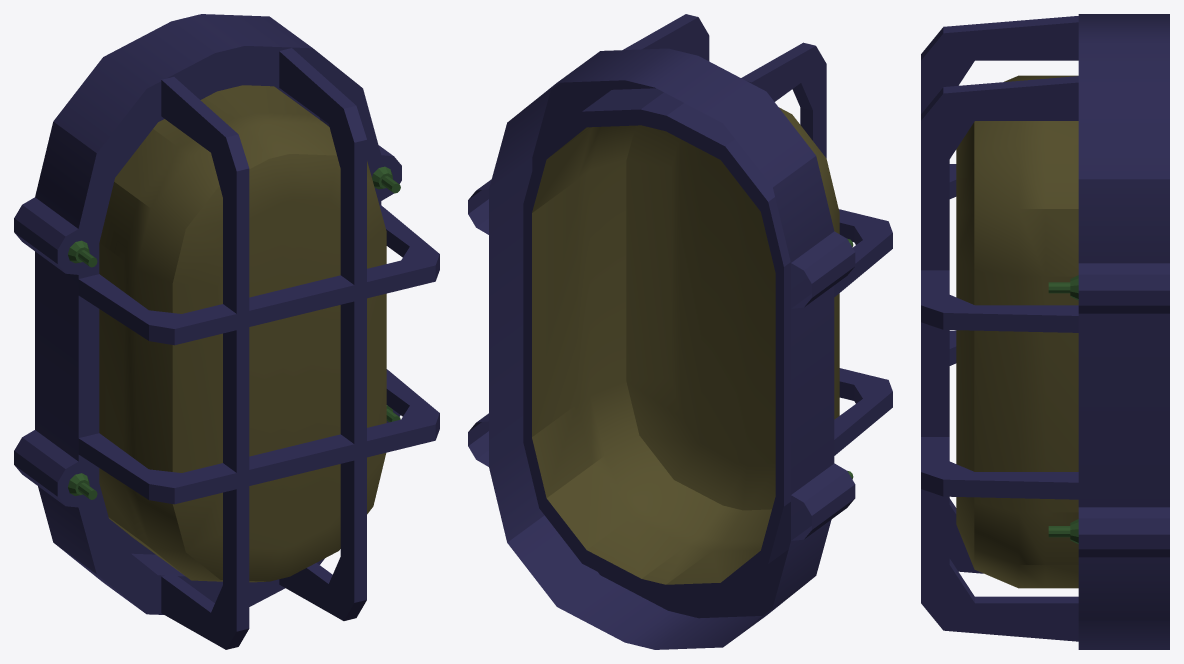
The model's file is staticMesh_prop_WallLight.fbx.
3 views of the same model, side by side, from view 1: azimuth 30°, elevation 25°; view 2: azimuth 150°, elevation 25°; view 3: azimuth 270°, elevation 25° (orthographic). The views are drawn at different scales.
Parts seen in each view (by area): view 1: polySurface29; view 2: polySurface29; view 3: polySurface29.
Boxes of the visible parts, left/top/right/bottom form: polySurface29: left=14, top=14, right=439, bottom=649; polySurface29: left=468, top=14, right=892, bottom=649; polySurface29: left=921, top=14, right=1169, bottom=649.
Bounding box in the file's own units: 63.96 × 100 × 38.18.
